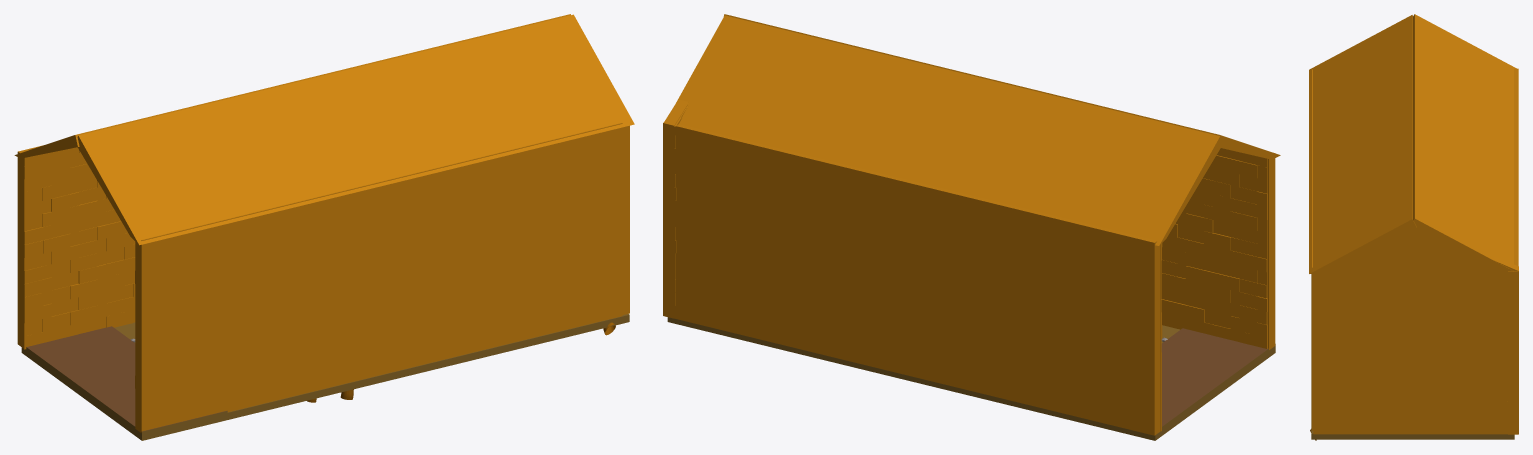
Rendered from batiment4.fbx.
3 renders of one model, left to right at view 1: azimuth 30°, elevation 25°; view 2: azimuth 150°, elevation 25°; view 3: azimuth 270°, elevation 25°, orthographic. The views are drawn at different scales.
Parts seen in each view (by area): view 1: murs.005, toit, murs.002, Plane, toit.001, murs.004, murs; view 2: murs, toit.001, murs.001, Plane, murs.004, toit, murs.005, murs.003; view 3: murs.004, toit, toit.001, murs, Plane, murs.005.
Boxes of the visible parts, x1=… form: murs.005: x1=135, y1=123, x2=622, y2=432; toit: x1=77, y1=14, x2=634, y2=245; murs.002: x1=23, y1=147, x2=135, y2=349; Plane: x1=21, y1=314, x2=629, y2=440; toit.001: x1=14, y1=14, x2=570, y2=158; murs.004: x1=622, y1=125, x2=629, y2=314; murs: x1=17, y1=145, x2=42, y2=348; murs: x1=663, y1=122, x2=1160, y2=435; toit.001: x1=676, y1=15, x2=1222, y2=245; murs.001: x1=1161, y1=148, x2=1267, y2=348; Plane: x1=667, y1=317, x2=1275, y2=440; murs.004: x1=663, y1=99, x2=688, y2=318; toit: x1=723, y1=14, x2=1280, y2=159; murs.005: x1=1268, y1=158, x2=1275, y2=349; murs.003: x1=673, y1=106, x2=688, y2=318; murs.004: x1=1313, y1=229, x2=1518, y2=434; toit: x1=1309, y1=15, x2=1416, y2=273; toit.001: x1=1413, y1=14, x2=1516, y2=271; murs: x1=1508, y1=68, x2=1518, y2=434; Plane: x1=1311, y1=274, x2=1514, y2=439; murs.005: x1=1312, y1=69, x2=1313, y2=430.
Bounding box in the file's own units: 2269 × 1213 × 981.
